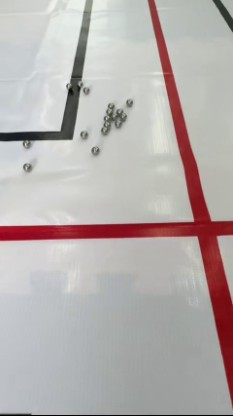ironball: (72, 76, 83, 88), (21, 137, 32, 149), (21, 161, 32, 173), (63, 81, 74, 92), (123, 96, 134, 107), (78, 128, 89, 139), (111, 118, 123, 128), (81, 84, 91, 95), (90, 145, 100, 156), (119, 111, 128, 123), (102, 113, 112, 123), (99, 125, 108, 135), (104, 106, 113, 115), (115, 105, 123, 115), (105, 101, 114, 108)
